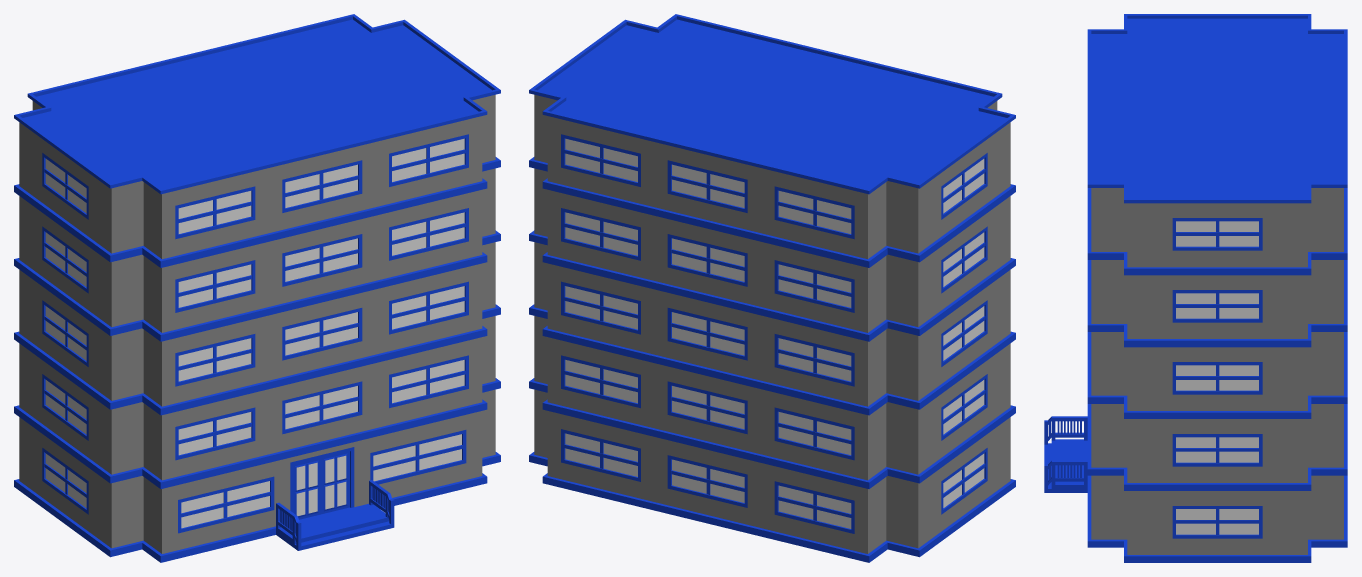
Rendered from business building 22.fbx.
3 renders of one model, left to right at view 1: azimuth 30°, elevation 25°; view 2: azimuth 150°, elevation 25°; view 3: azimuth 270°, elevation 25°, orthographic. The views are drawn at different scales.
Visible parts, largest first — view 1: building_001; view 2: building_001; view 3: building_001.
Boxes of the visible parts, <box> form: building_001: <box>14,14,500,562</box>; building_001: <box>529,14,1015,562</box>; building_001: <box>1044,14,1347,562</box>.
Size of the model in its own units: 1220 by 1110 by 840.
